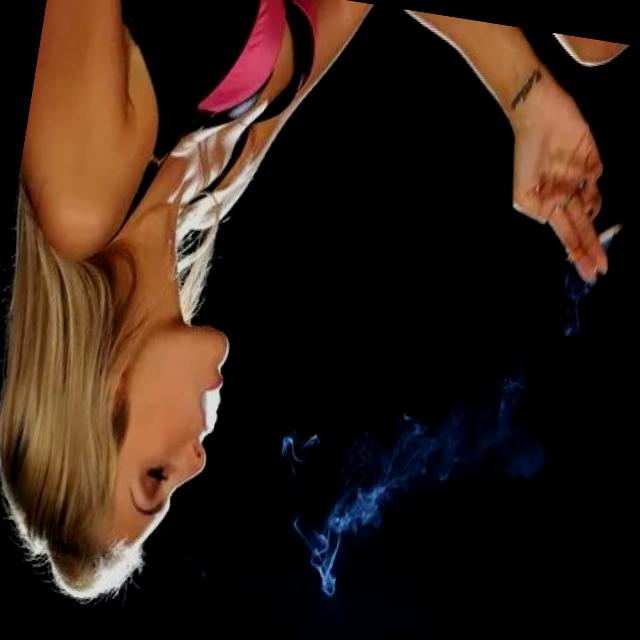cigarette: (565, 210, 626, 272)
